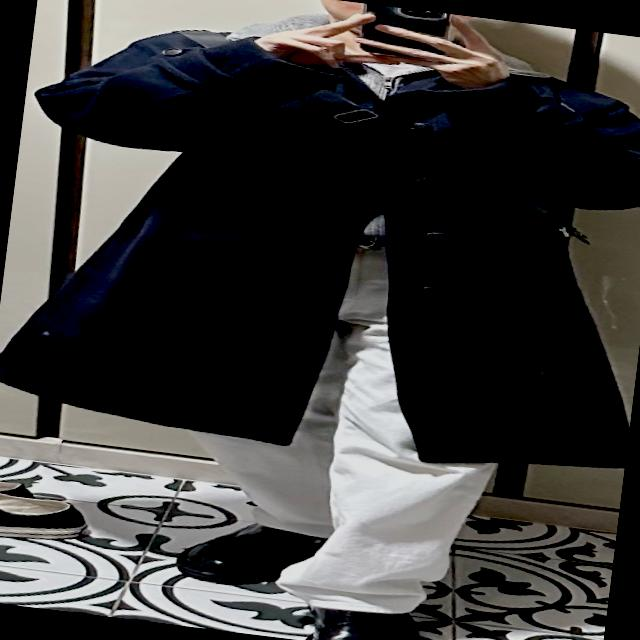coat: (0, 0, 640, 486)
cottonpants: (163, 211, 530, 624)
